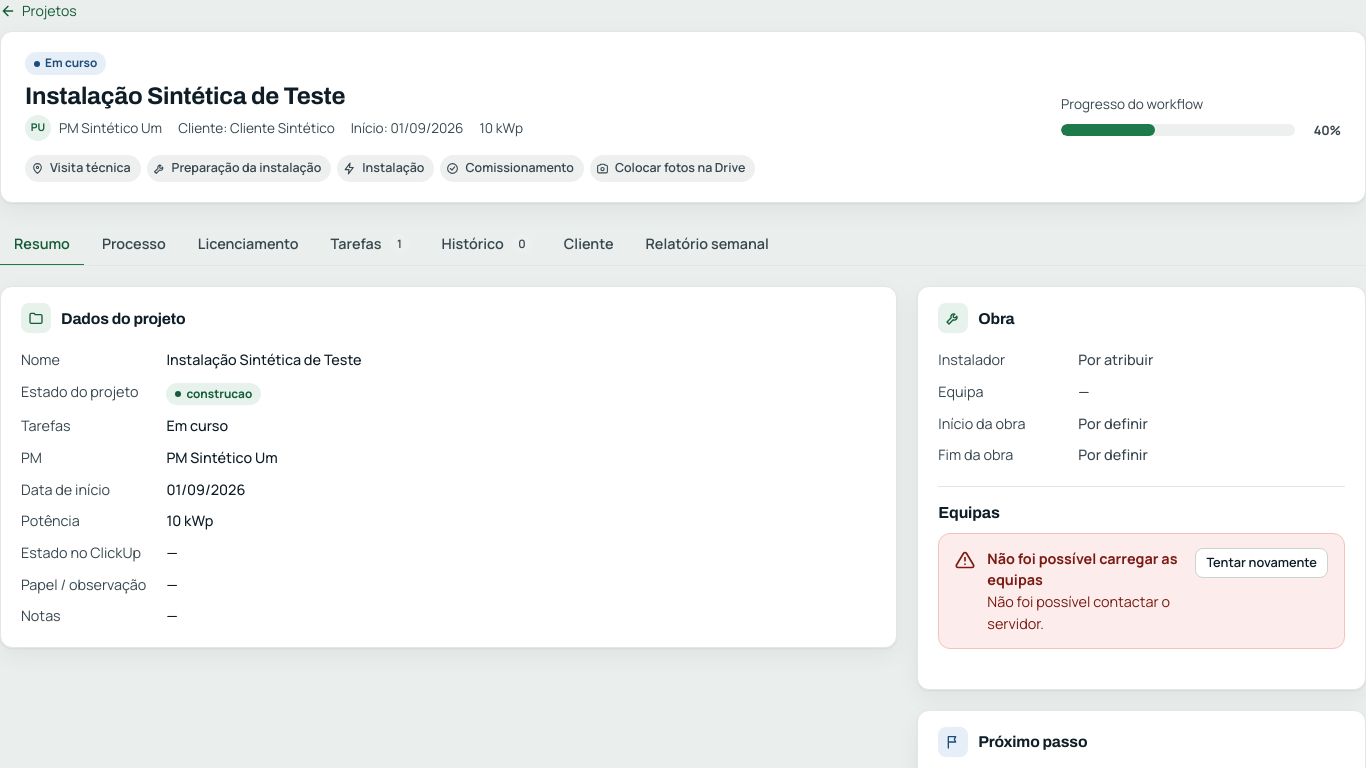
it: Detalhe do projeto — dados de instalação/licenciamento › mostra dados de licenciamento sem edição sem permissão de escrita
Expected: the heading "Instalação Sintética de Teste" is shown, [25, 83, 345, 109]
What coordinates should you click on to do the following:
click the tab "Licenciamento"
I would click on:
 (248, 245)
Its box is [184, 223, 313, 266].
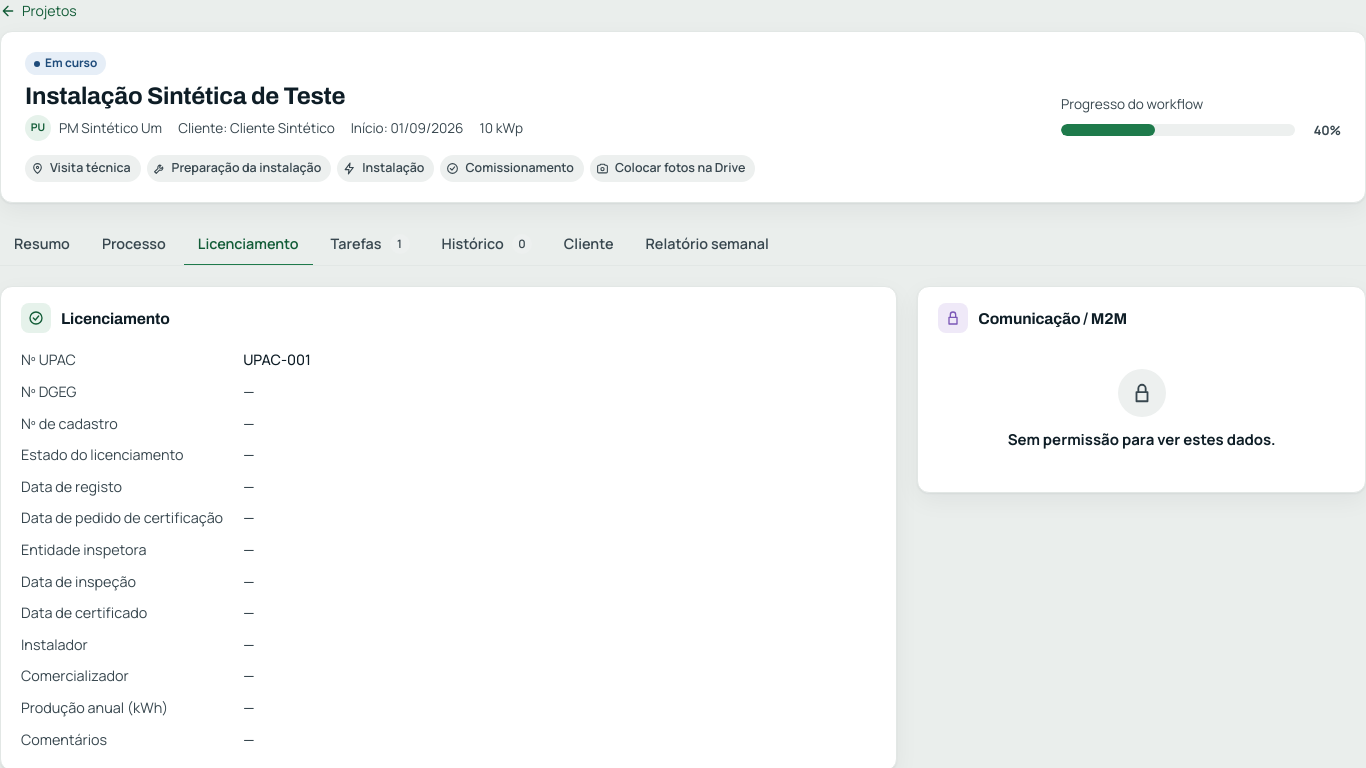
Result: the text "UPAC-001" is shown at [243, 350, 311, 369]
